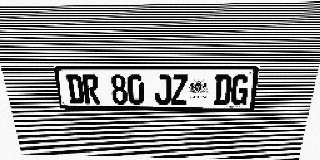0: (127, 75, 144, 104)
8: (110, 75, 128, 104)
D: (65, 75, 85, 104), (213, 75, 232, 105)
G: (230, 75, 250, 105)
J: (155, 75, 171, 105)
R: (82, 75, 100, 104)
Z: (171, 75, 188, 105)
